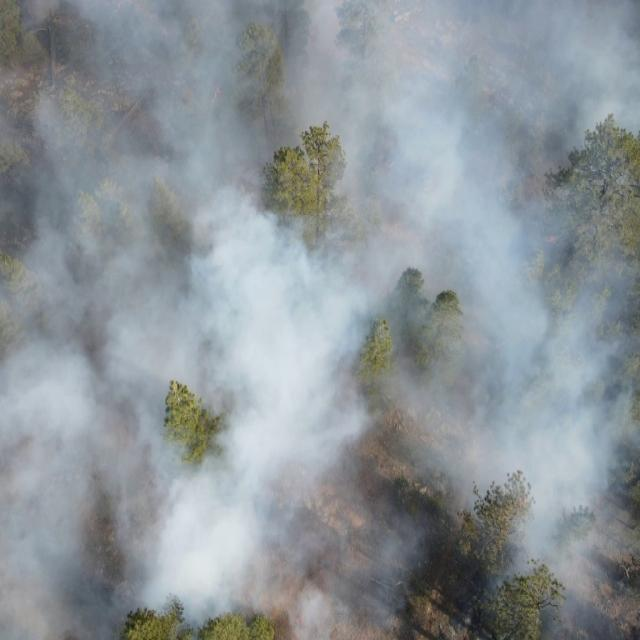fire: (206, 81, 224, 104)
smoke: (0, 0, 640, 640)
